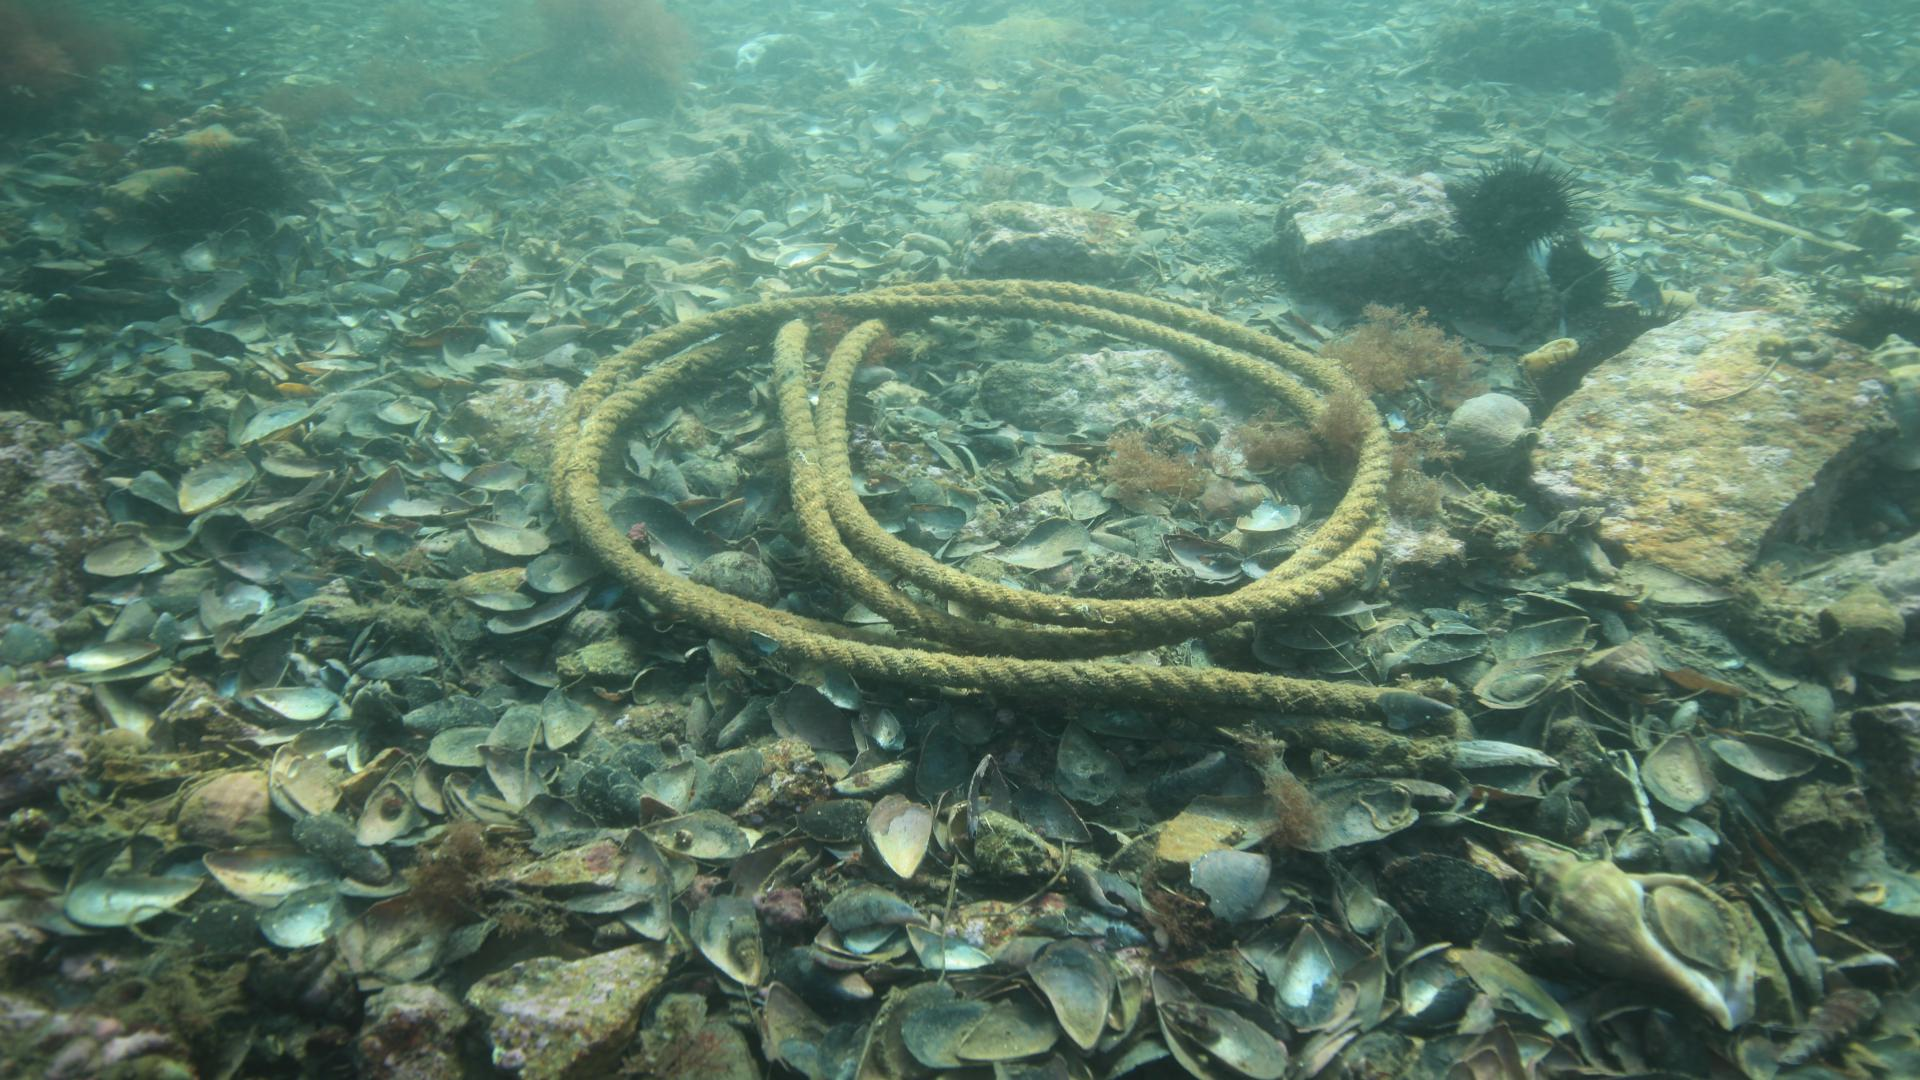bundle of ropes: (537, 273, 1400, 732)
